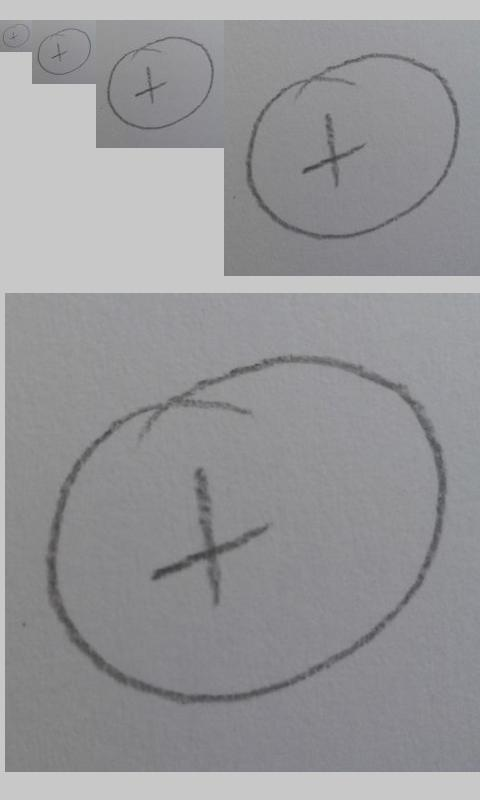button: (45, 352, 450, 706), (244, 52, 460, 240), (106, 35, 214, 130), (37, 28, 92, 76), (2, 23, 30, 48)
